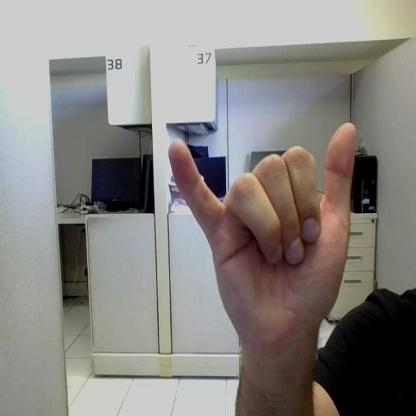Y: (169, 124, 356, 353)
